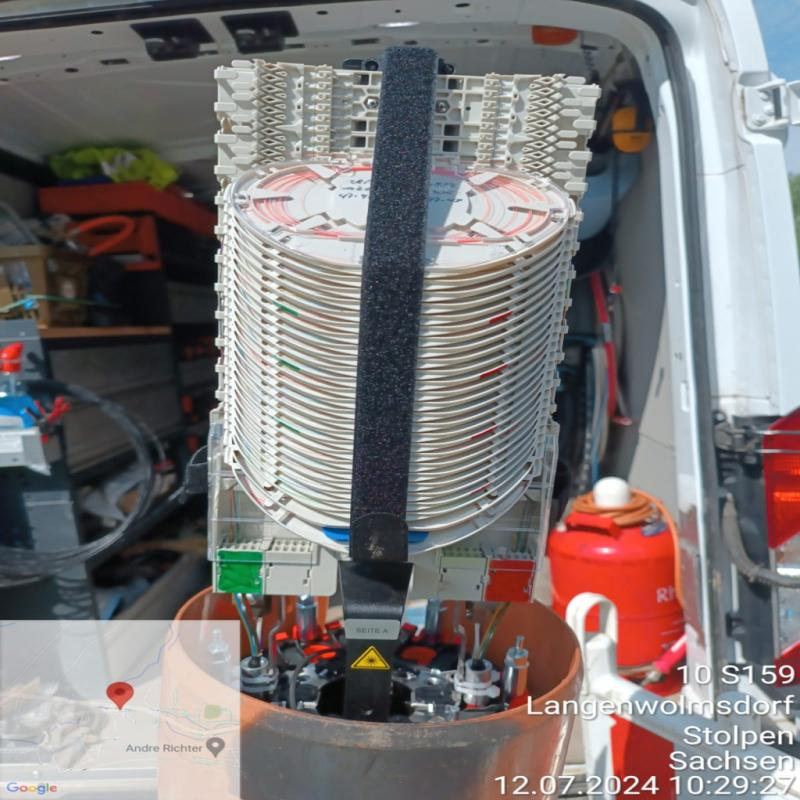NT-Muffen: (203, 54, 576, 686)
